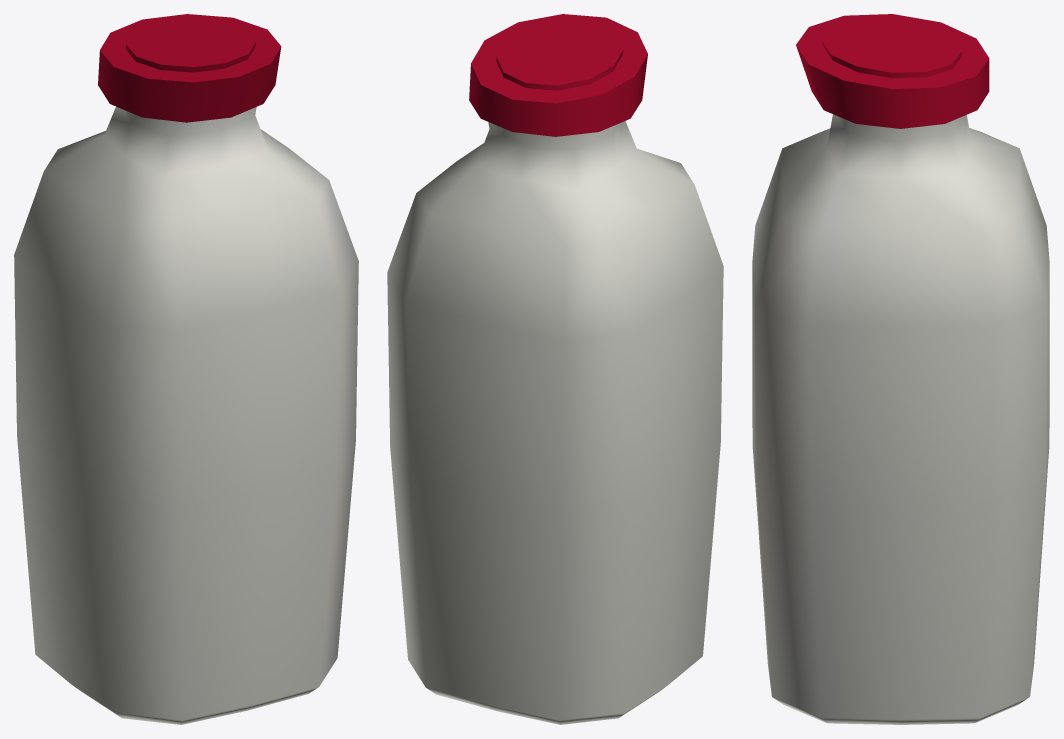
File: SHAVR_SET_MILKBOTTLE.fbx
3 renders of one model, left to right at view 1: azimuth 30°, elevation 25°; view 2: azimuth 150°, elevation 25°; view 3: azimuth 270°, elevation 25°, orthographic. The views are drawn at different scales.
Parts seen in each view (by area): view 1: SHAVR_SET_MILKBOTTLE; view 2: SHAVR_SET_MILKBOTTLE; view 3: SHAVR_SET_MILKBOTTLE.
Part boxes in pixels (x1=…): SHAVR_SET_MILKBOTTLE: x1=14, y1=14, x2=358, y2=724; SHAVR_SET_MILKBOTTLE: x1=387, y1=14, x2=723, y2=724; SHAVR_SET_MILKBOTTLE: x1=752, y1=14, x2=1049, y2=724.
Size of the model in its own units: 0.1373 by 0.3224 by 0.1373.
